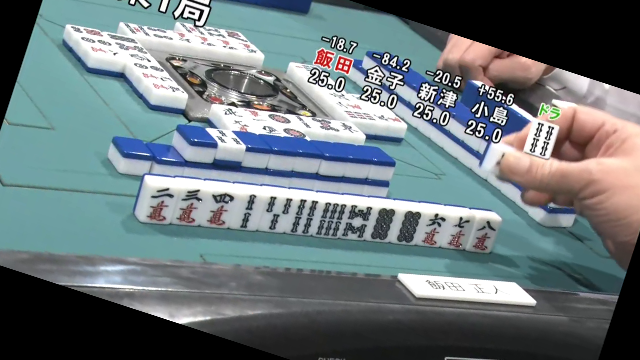Tehai: (138, 182, 499, 252)
